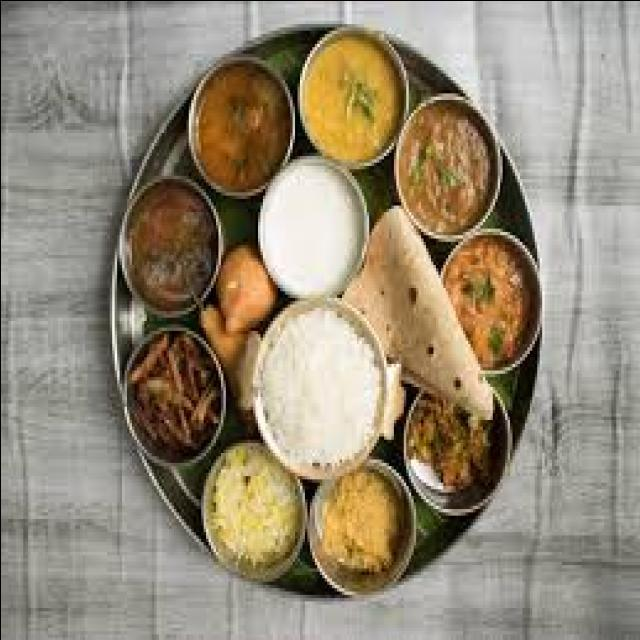curd: (250, 148, 372, 295)
dal: (293, 34, 407, 162)
papad: (361, 215, 489, 431), (255, 311, 393, 467)
